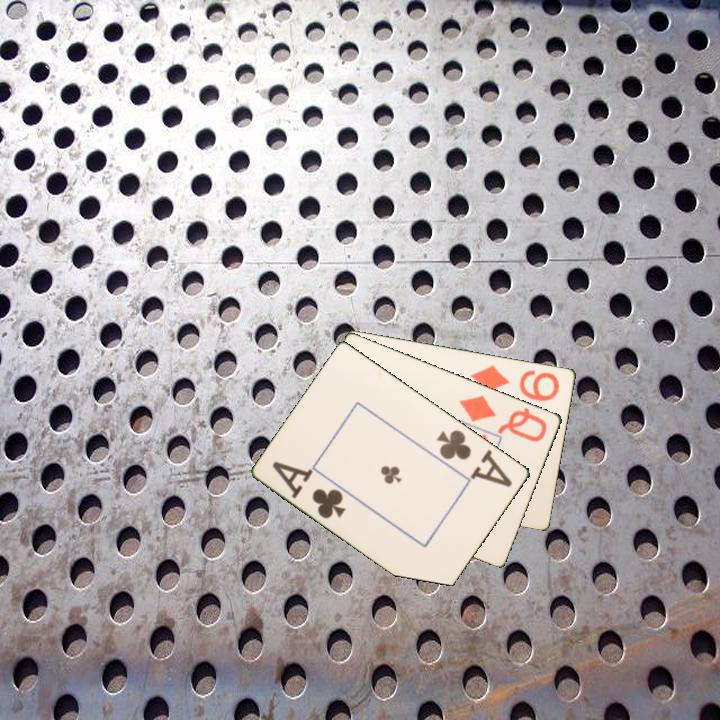9d: (467, 361, 563, 404)
Ac: (433, 426, 516, 490), (269, 457, 349, 522)
Qd: (456, 391, 550, 445)
